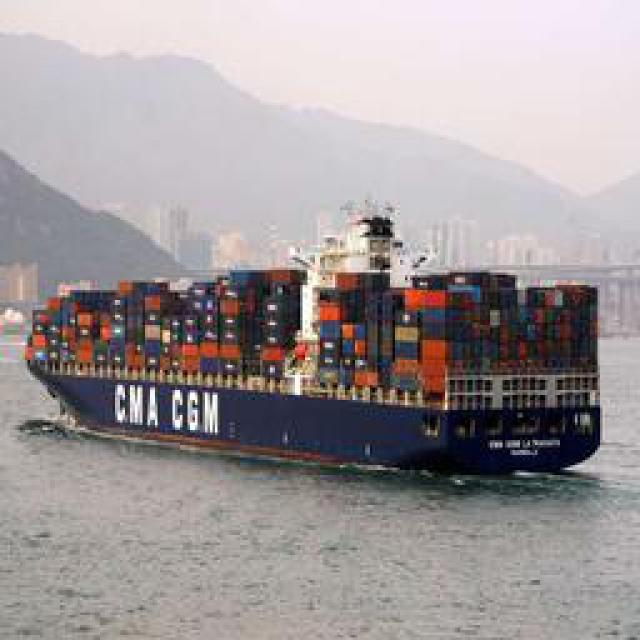Ship: (22, 212, 625, 475)
